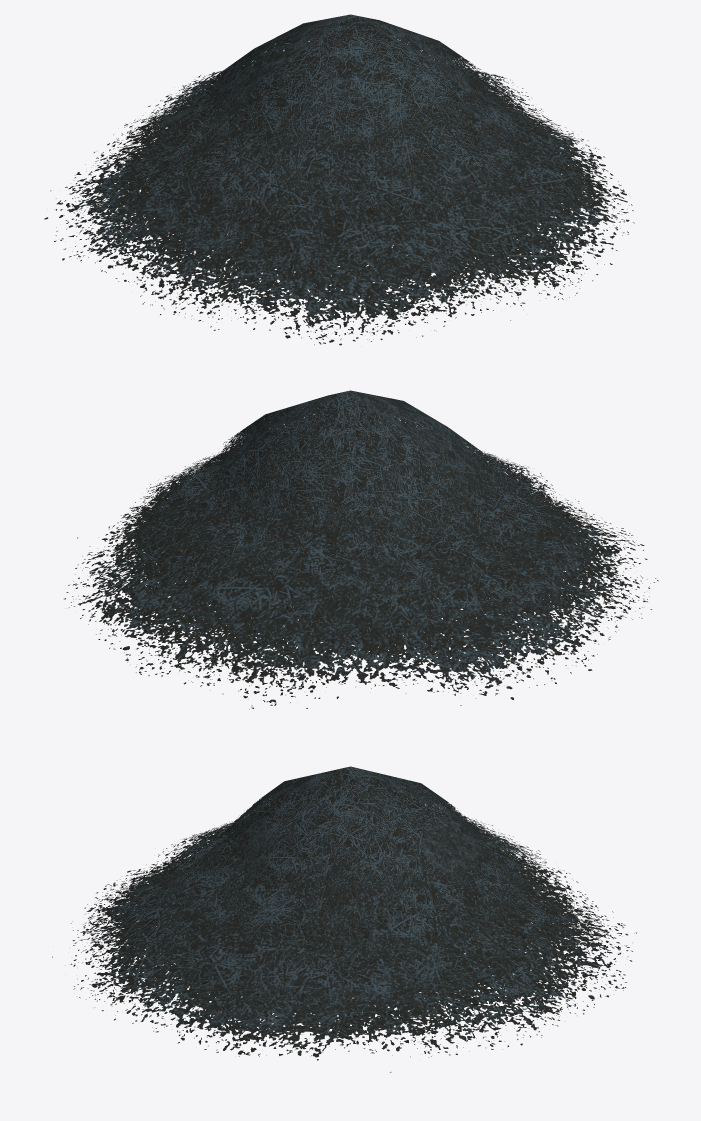
File: BigHaypile_01.fbx
3 views of the same model, one above another, from view 1: azimuth 30°, elevation 25°; view 2: azimuth 150°, elevation 25°; view 3: azimuth 270°, elevation 25° (orthographic). The views are drawn at different scales.
Visible parts, largest first — view 1: haypileBig03; view 2: haypileBig03; view 3: haypileBig03.
Boxes of the visible parts, box(x1,y1,x2,y2) form: haypileBig03: box(44, 14, 634, 345); haypileBig03: box(64, 390, 658, 709); haypileBig03: box(52, 766, 636, 1072).
Size of the model in its own units: 1.39 by 0.4501 by 1.39.
